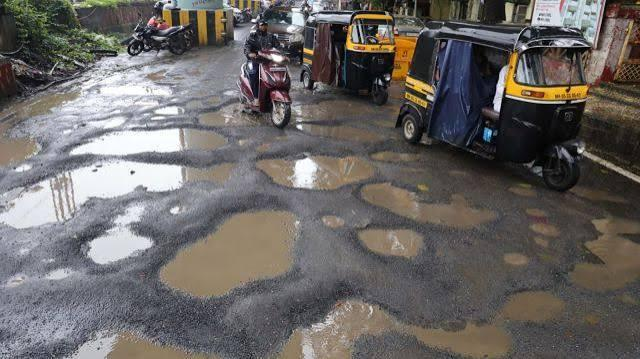D20: (416, 186, 454, 207), (603, 198, 630, 221), (437, 277, 463, 296)
D40: (150, 191, 315, 306), (351, 154, 503, 228), (561, 200, 639, 303), (68, 216, 158, 269), (252, 148, 359, 192), (359, 136, 398, 160), (316, 209, 347, 230), (581, 221, 605, 243), (614, 230, 639, 247), (0, 197, 18, 216)
